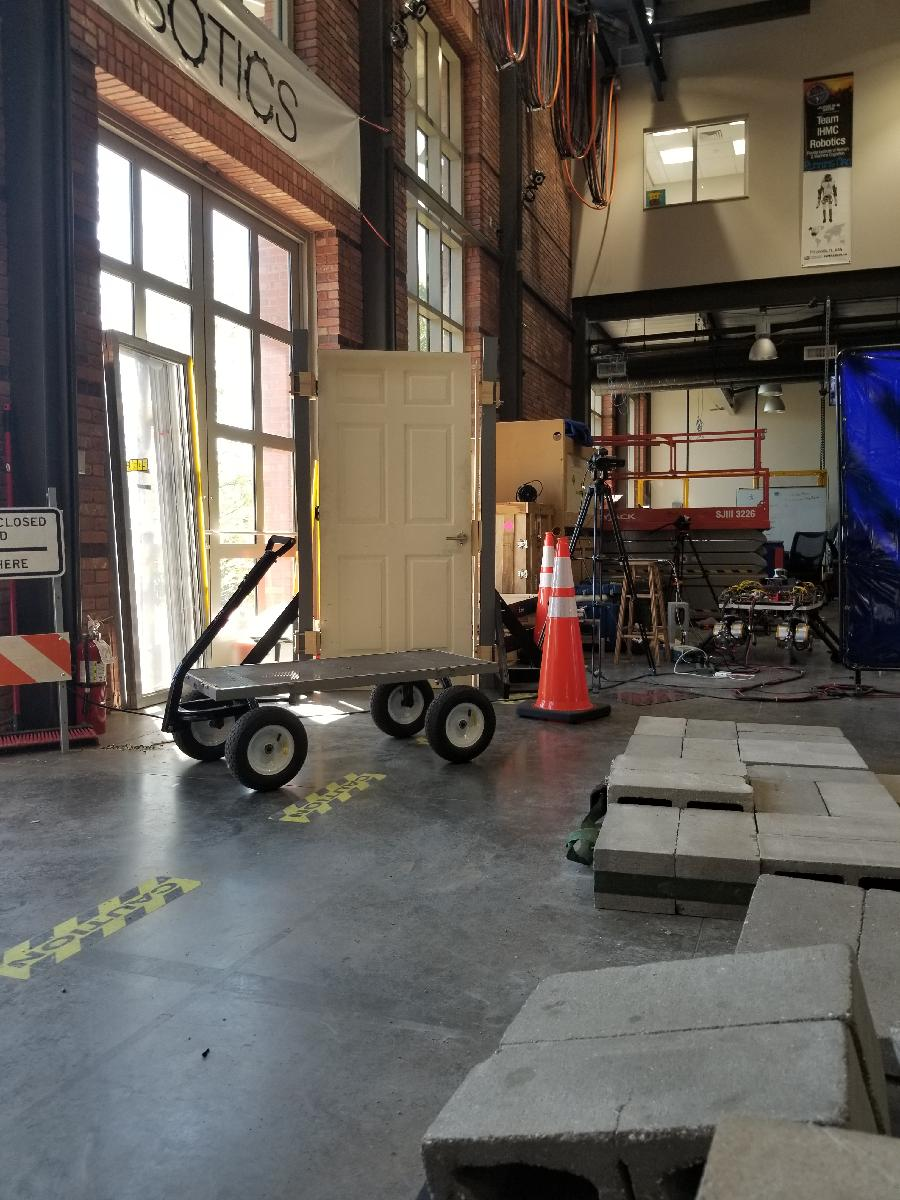door: (315, 346, 477, 698)
doorHandle: (443, 528, 469, 548)
